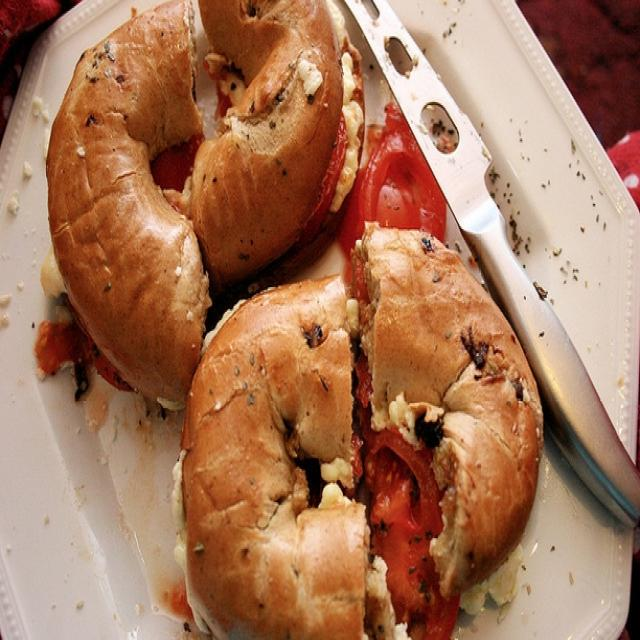面包点心: (1, 1, 632, 637)
